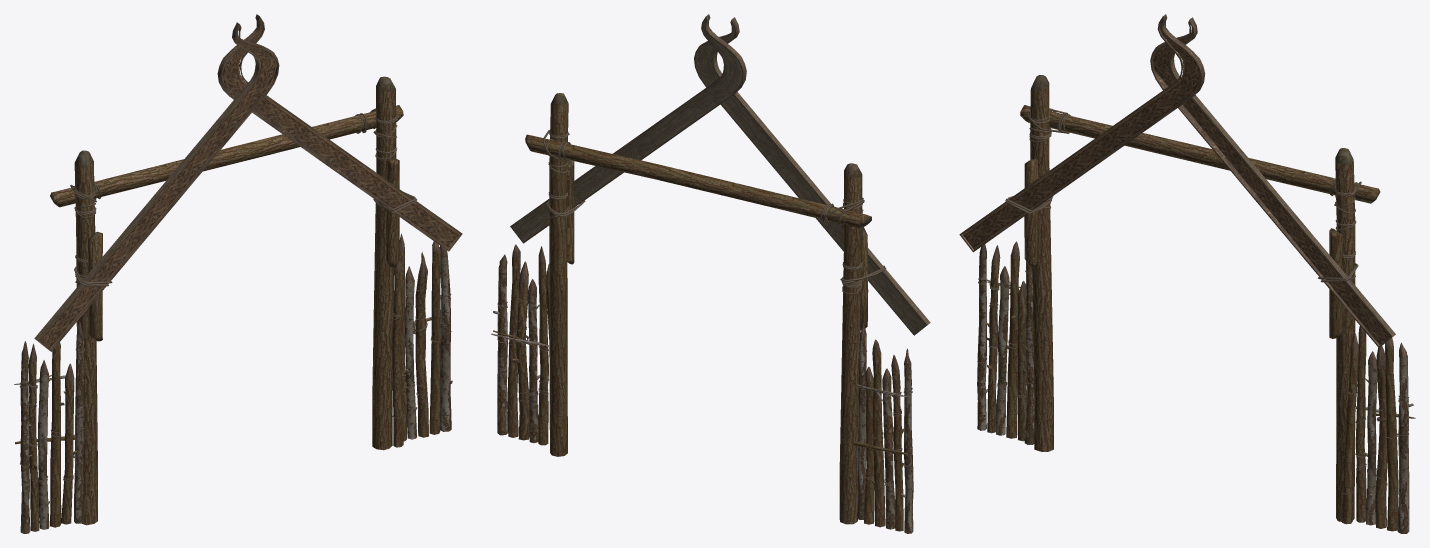
Rendered from VIK_PRO_Gate_Entrance_8m_01A_LOD0-transformed.glb.
3 renders of one model, left to right at view 1: azimuth 30°, elevation 25°; view 2: azimuth 150°, elevation 25°; view 3: azimuth 330°, elevation 25°, orthographic. The views are drawn at different scales.
Parts seen in each view (by area): view 1: default; view 2: default; view 3: default.
Part boxes in pixels (box(x1,y1,x2,y2)): default: box(14, 14, 462, 533); default: box(491, 14, 930, 533); default: box(959, 14, 1415, 533).
Size of the model in its own units: 11.05 by 11.59 by 1.55.
Materials: 4 (4 with a texture image).
